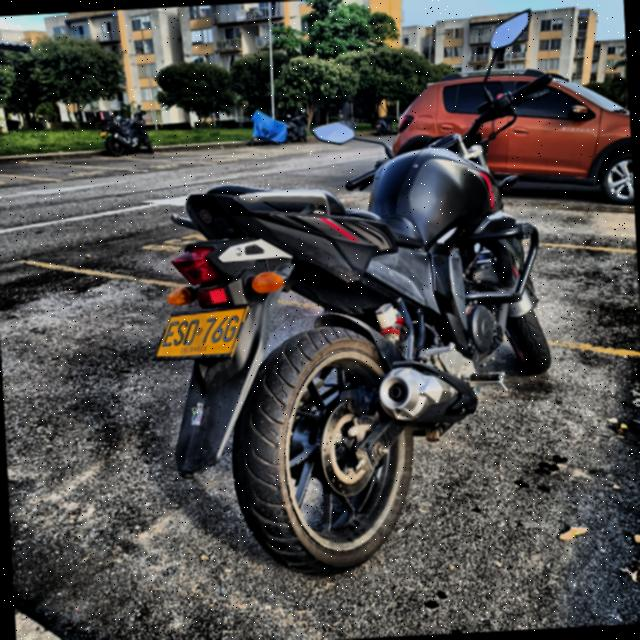plate: (155, 308, 247, 357)
